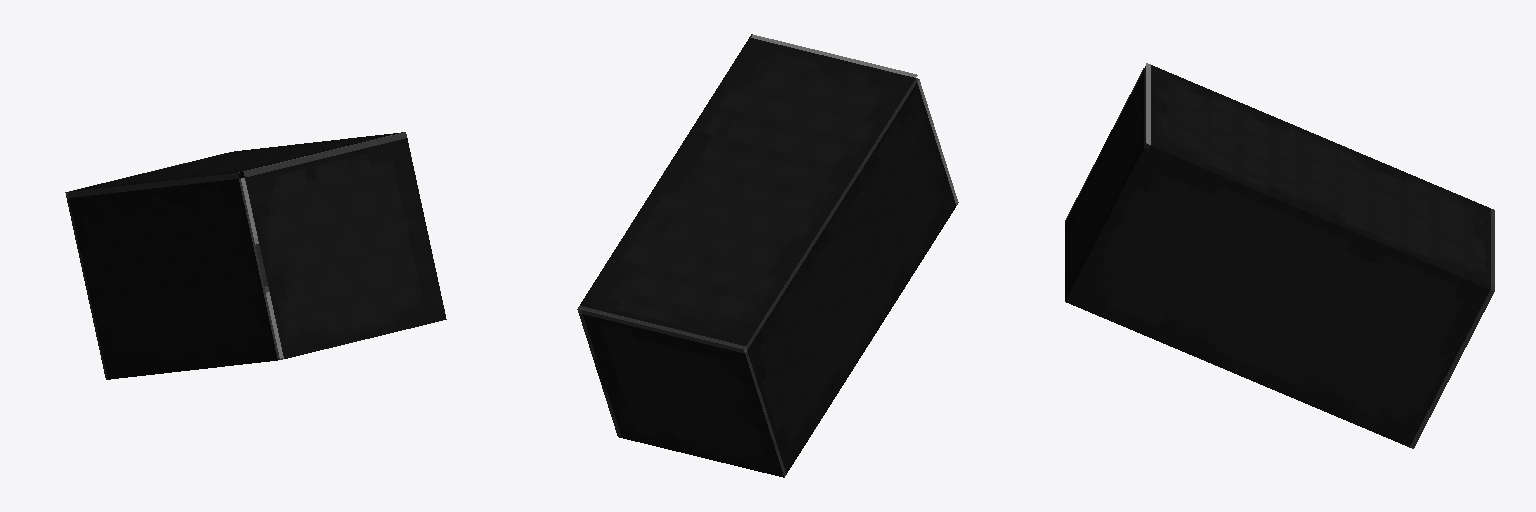
The picture shows the model from 3 angles: view 1: azimuth 30°, elevation 25°; view 2: azimuth 150°, elevation 25°; view 3: azimuth 270°, elevation 25°; orthographic projection.
Parts seen in each view (by area): view 1: Enderdragon_Malla; view 2: Enderdragon_Malla; view 3: Enderdragon_Malla.
Part boxes in pixels (x1,y1,x2,y2): Enderdragon_Malla: (65, 132, 446, 379); Enderdragon_Malla: (577, 34, 958, 477); Enderdragon_Malla: (1065, 63, 1494, 448).
Size of the model in its own units: 2.54 by 4.46 by 5.69.
1 materials, 1 textured.